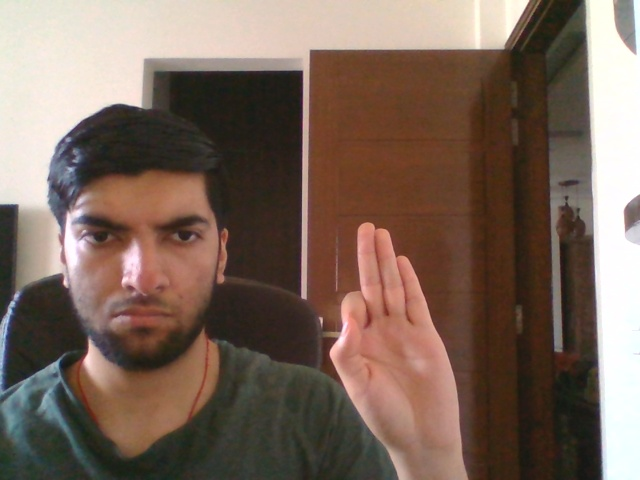LetterF: (328, 221, 462, 455)
